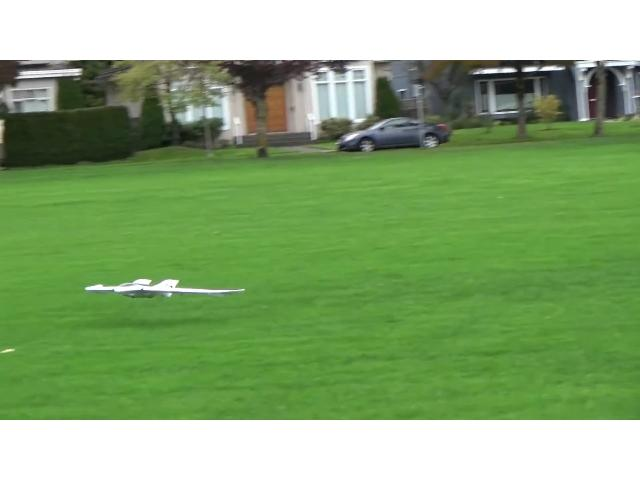Anti-Drone: (86, 280, 244, 298)
